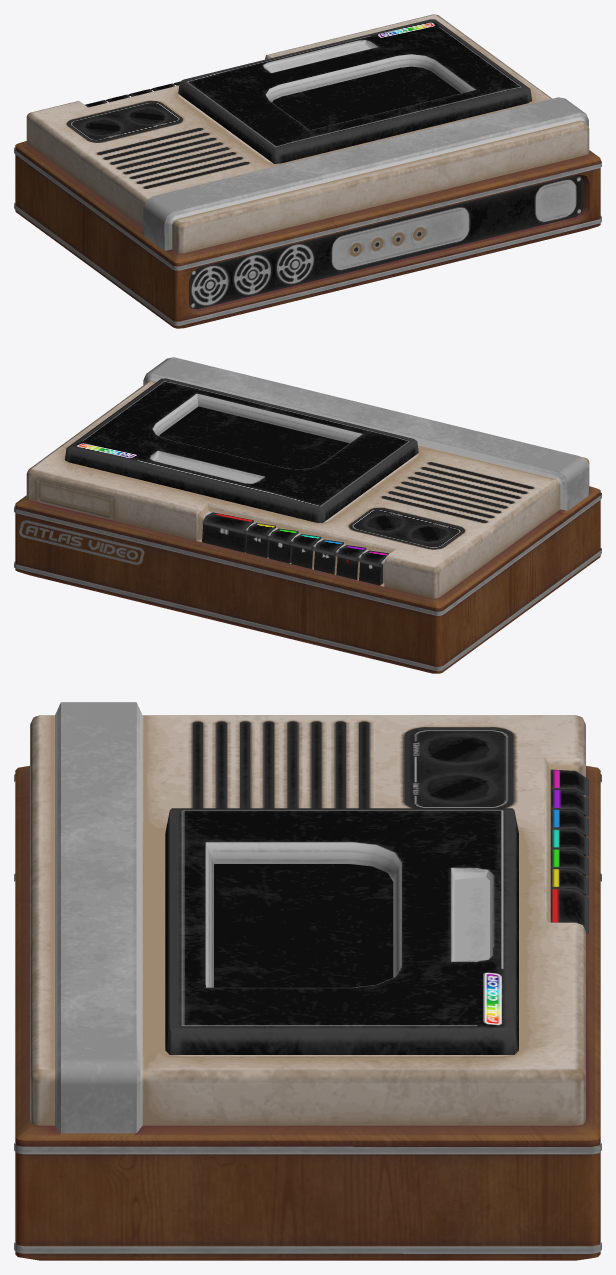
Rendered from ELT0110018.fbx.
3 renders of one model, top to bottom at view 1: azimuth 30°, elevation 25°; view 2: azimuth 150°, elevation 25°; view 3: azimuth 270°, elevation 25°, orthographic. The views are drawn at different scales.
Parts seen in each view (by area): view 1: smELT0110018; view 2: smELT0110018; view 3: smELT0110018.
Boxes of the visible parts, left/top/right/bottom form: smELT0110018: left=14, top=14, right=601, bottom=328; smELT0110018: left=14, top=357, right=601, bottom=673; smELT0110018: left=14, top=702, right=601, bottom=1260.
Bounding box in the file's own units: 45.16 × 12.02 × 29.86.
Materials: 1 (1 with a texture image).
